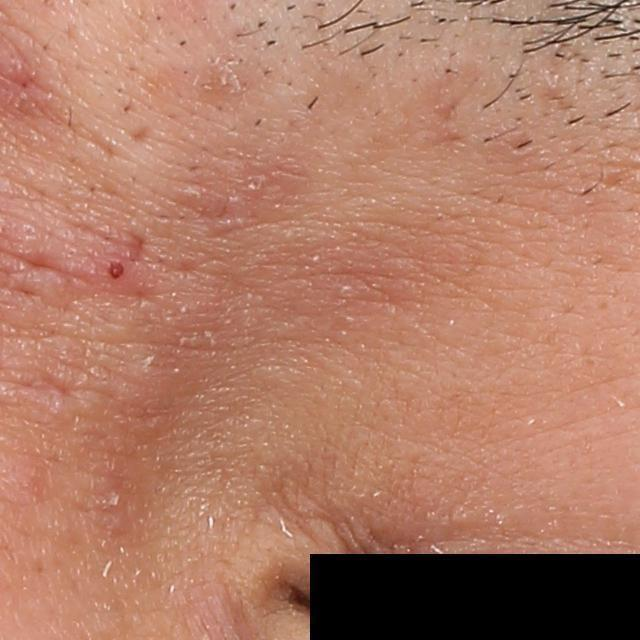atrophic_scar: (126, 227, 150, 262), (128, 124, 151, 143)
papule: (92, 247, 131, 287)
